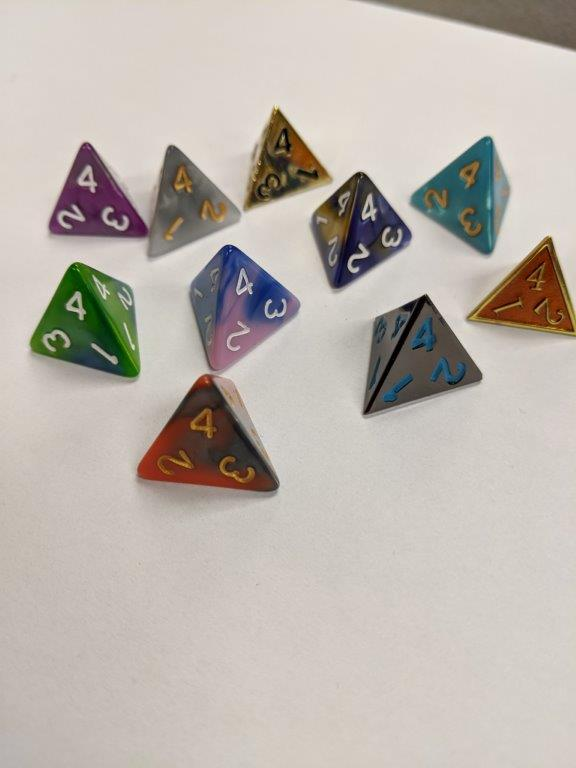d4-4: (133, 372, 282, 498), (361, 293, 483, 425), (183, 244, 306, 372), (23, 260, 142, 381), (312, 166, 413, 294), (407, 134, 511, 257), (463, 234, 576, 339), (145, 141, 241, 256), (48, 139, 145, 236), (244, 107, 332, 209)
